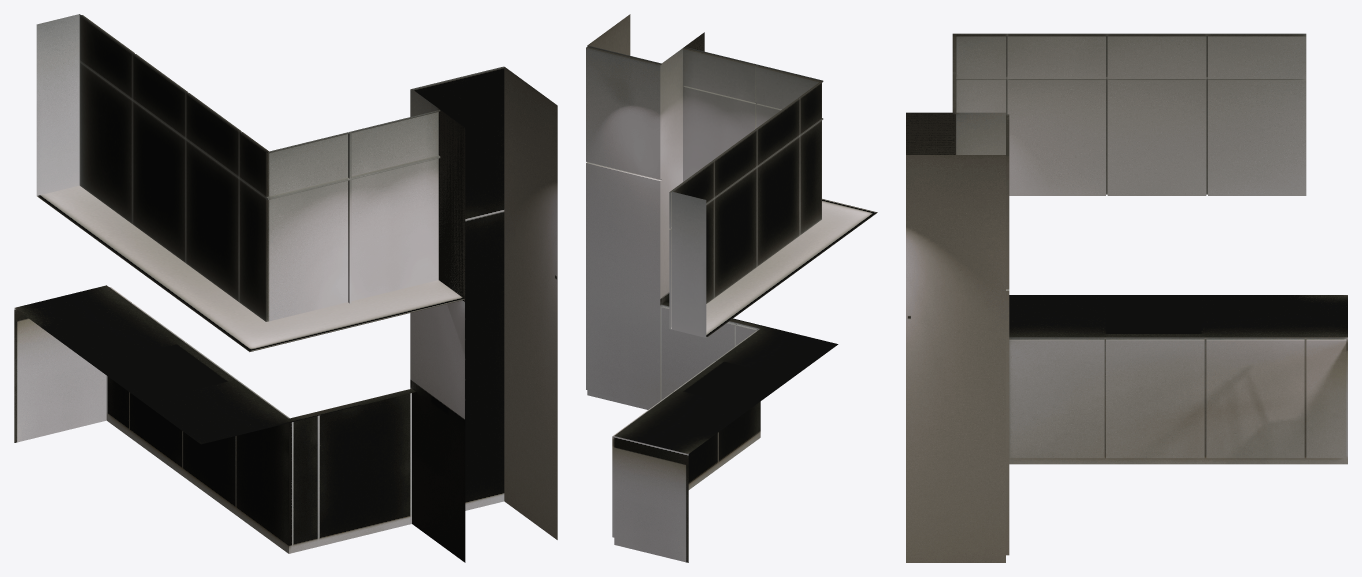
Rendered from ckitchen farniture.fbx.
3 renders of one model, left to right at view 1: azimuth 30°, elevation 25°; view 2: azimuth 150°, elevation 25°; view 3: azimuth 270°, elevation 25°, orthographic. The views are drawn at different scales.
Parts seen in each view (by area): view 1: 04_KITCHEN_BOTTOM_PVC White Glossy1 [04_KITCHEN_BOTTOM]_0, 04_KITCHEN_TOP_PVC White Glossy2 [04_KITCHEN_TOP]_0; view 2: 04_KITCHEN_BOTTOM_PVC White Glossy1 [04_KITCHEN_BOTTOM]_0, 04_KITCHEN_TOP_PVC White Glossy2 [04_KITCHEN_TOP]_0; view 3: 04_KITCHEN_BOTTOM_PVC White Glossy1 [04_KITCHEN_BOTTOM]_0, 04_KITCHEN_TOP_PVC White Glossy2 [04_KITCHEN_TOP]_0.
Boxes of the visible parts, box(x1,y1,x2,y2) form: 04_KITCHEN_BOTTOM_PVC White Glossy1 [04_KITCHEN_BOTTOM]_0: box(14, 66, 557, 562); 04_KITCHEN_TOP_PVC White Glossy2 [04_KITCHEN_TOP]_0: box(36, 14, 465, 351); 04_KITCHEN_BOTTOM_PVC White Glossy1 [04_KITCHEN_BOTTOM]_0: box(586, 14, 838, 562); 04_KITCHEN_TOP_PVC White Glossy2 [04_KITCHEN_TOP]_0: box(669, 32, 877, 337); 04_KITCHEN_BOTTOM_PVC White Glossy1 [04_KITCHEN_BOTTOM]_0: box(906, 112, 1347, 562); 04_KITCHEN_TOP_PVC White Glossy2 [04_KITCHEN_TOP]_0: box(906, 33, 1306, 195).
Size of the model in its own units: 4.84 by 6.53 by 6.41.
